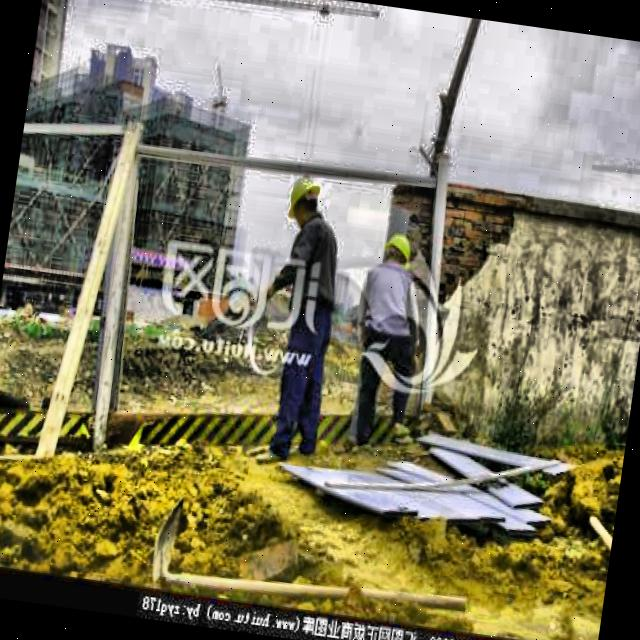helmet: (283, 172, 327, 228), (378, 224, 416, 275)
